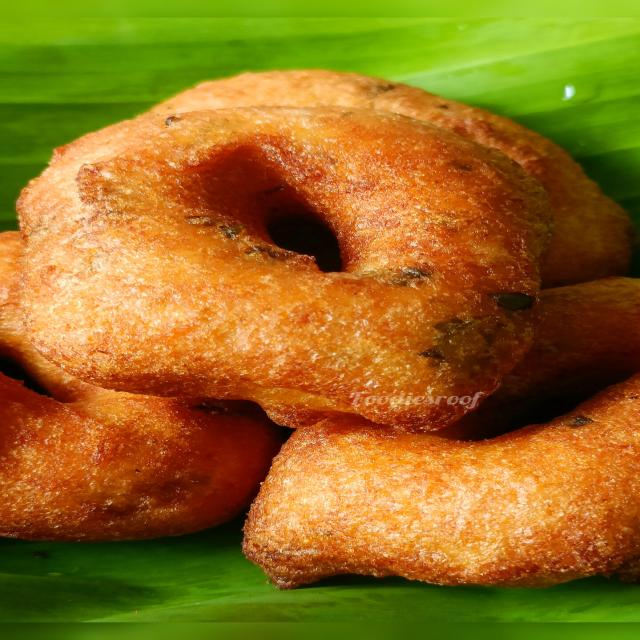MEDU VADA: (3, 65, 640, 587)
